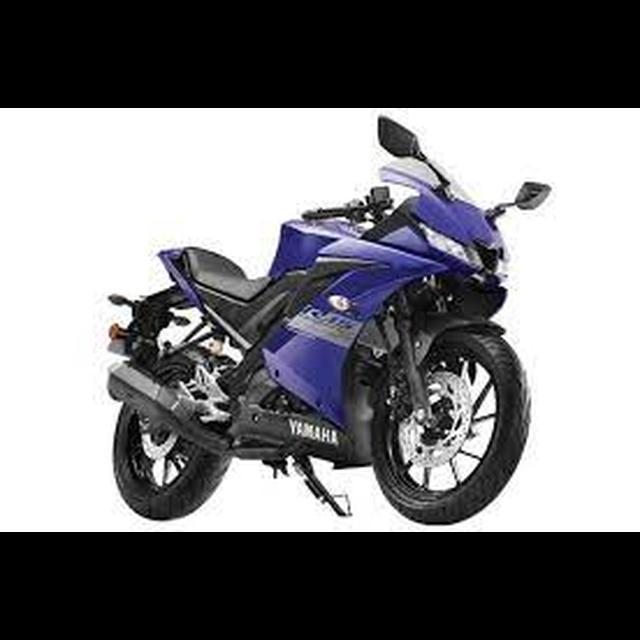motorcycle: (97, 113, 559, 526)
